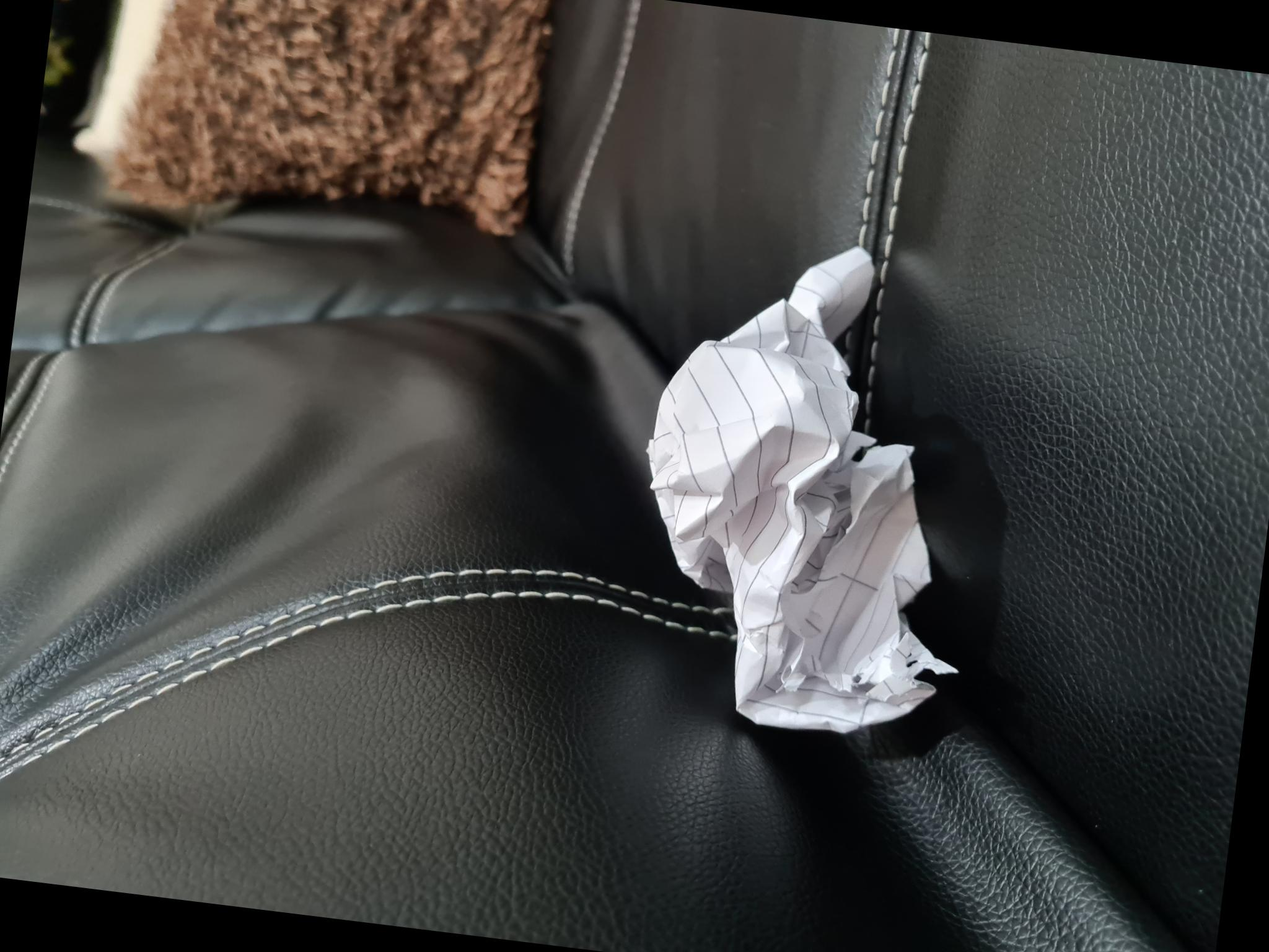Kertas: (202, 628, 685, 912)
